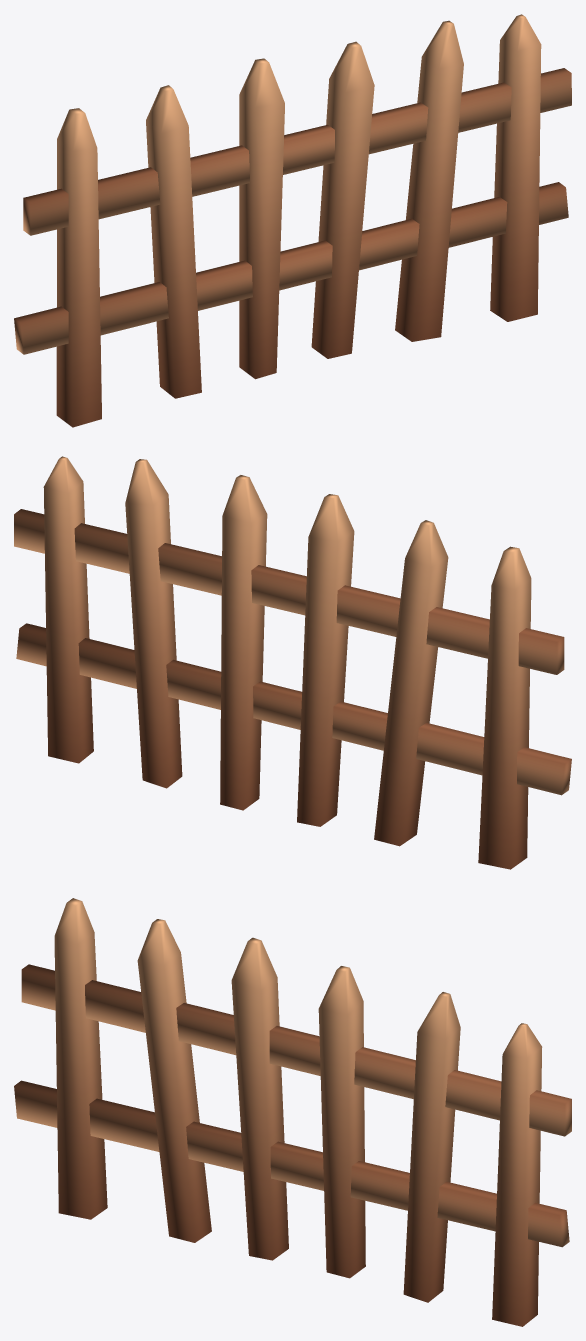
The model's file is Fence_01.fbx.
The picture shows the model from 3 angles, top to bottom: view 1: azimuth 30°, elevation 25°; view 2: azimuth 150°, elevation 25°; view 3: azimuth 330°, elevation 25°; orthographic projection.
Visible parts, largest first — view 1: Fence_01; view 2: Fence_01; view 3: Fence_01.
Boxes of the visible parts, bbox=[...] form: Fence_01: bbox=[14, 14, 571, 427]; Fence_01: bbox=[14, 456, 571, 869]; Fence_01: bbox=[14, 898, 571, 1326].
Bounding box in the file's own units: 368 × 203 × 33.64.
